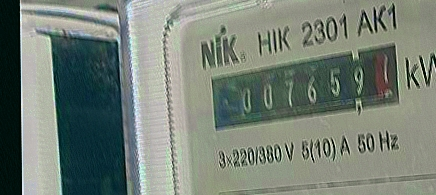0: (240, 84, 253, 112), (261, 82, 274, 109)
1: (378, 54, 391, 85)
5: (327, 66, 342, 98)
6: (305, 74, 318, 105)
7: (282, 76, 296, 108)
9: (351, 63, 366, 97)
screen: (196, 37, 418, 135)
